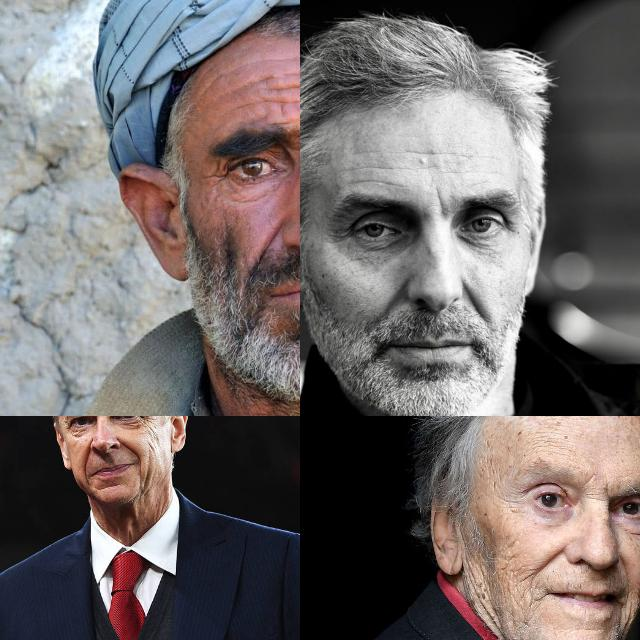chin: (98, 482, 122, 492)
crows_feet: (206, 160, 230, 184), (142, 416, 155, 430)
forehead: (346, 166, 402, 194), (406, 143, 466, 165), (532, 418, 564, 458), (248, 68, 280, 88), (201, 70, 229, 90), (266, 95, 292, 113), (289, 65, 300, 83)
frown_line: (584, 476, 610, 504), (293, 122, 300, 149)
gummy_smile: (376, 271, 408, 315), (460, 278, 492, 318), (253, 220, 280, 260), (536, 545, 562, 575), (120, 436, 140, 458), (81, 444, 95, 472)
masseter: (466, 566, 494, 620), (504, 557, 524, 615), (146, 438, 160, 456)
sad_smile: (613, 596, 631, 640), (81, 471, 92, 487), (134, 462, 144, 478)
